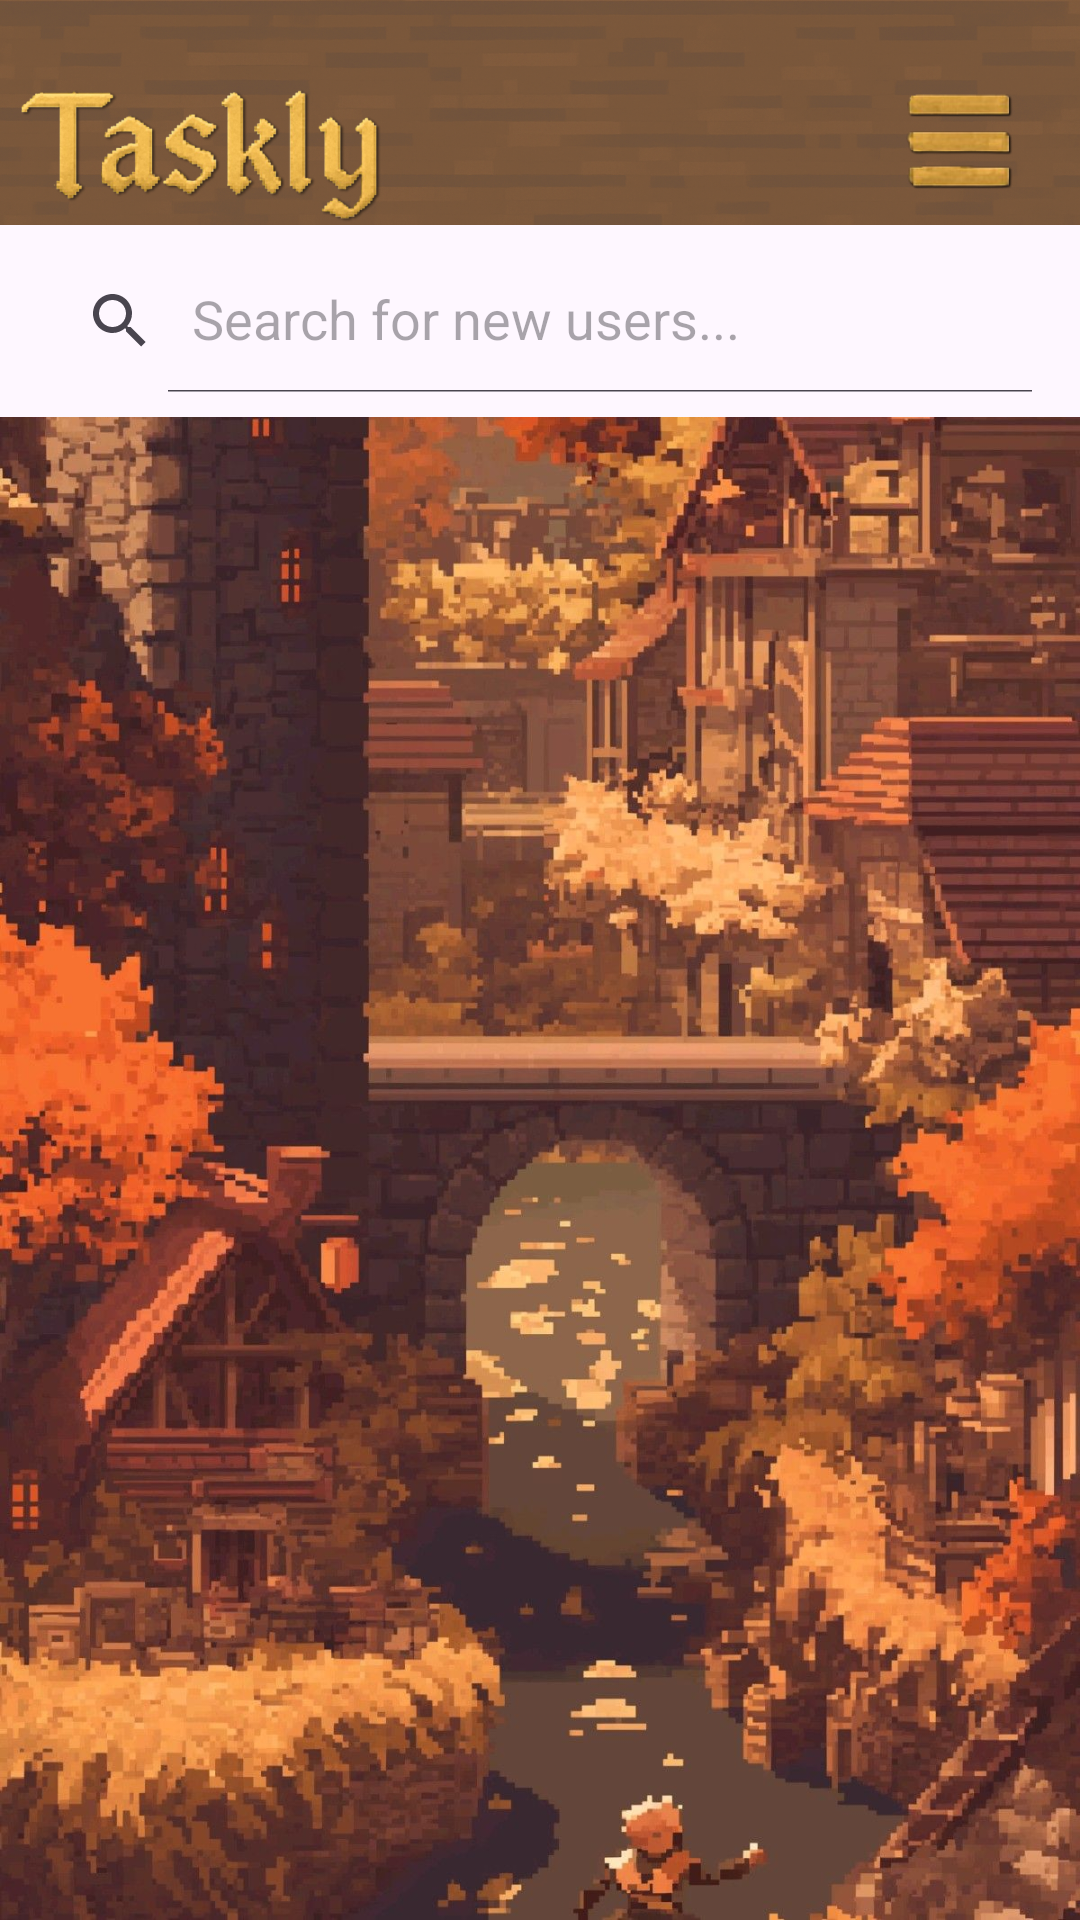

Where icons sit on this 1080*1920 app screen, as rect(x1, y1, x2, y2):
menu: rect(908, 94, 1012, 188)
